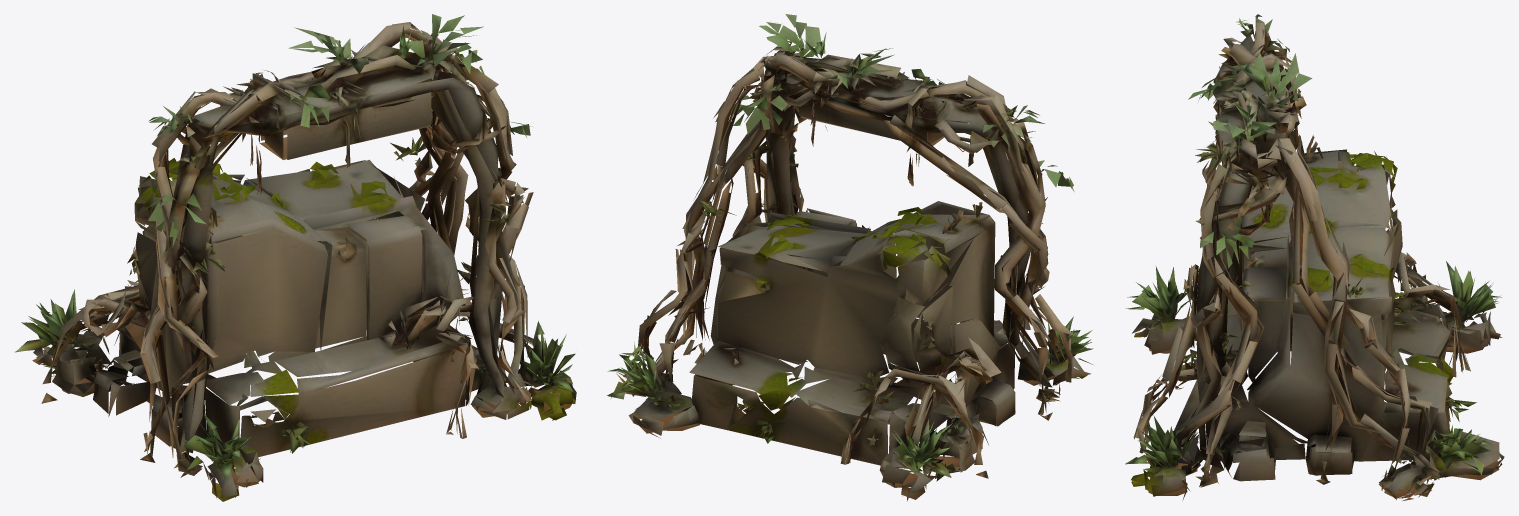
File: jun_root_arch_over_stone_LOD2.glb
3 renders of one model, left to right at view 1: azimuth 30°, elevation 25°; view 2: azimuth 150°, elevation 25°; view 3: azimuth 270°, elevation 25°, orthographic. The views are drawn at different scales.
Visible parts, largest first — view 1: tripo_node_2b6c4d80-21eb-4c0a-b062-b441cd52e211; view 2: tripo_node_2b6c4d80-21eb-4c0a-b062-b441cd52e211; view 3: tripo_node_2b6c4d80-21eb-4c0a-b062-b441cd52e211.
Part boxes in pixels (x1=…): tripo_node_2b6c4d80-21eb-4c0a-b062-b441cd52e211: x1=15, y1=14, x2=576, y2=501; tripo_node_2b6c4d80-21eb-4c0a-b062-b441cd52e211: x1=607, y1=14, x2=1093, y2=500; tripo_node_2b6c4d80-21eb-4c0a-b062-b441cd52e211: x1=1125, y1=14, x2=1504, y2=500.
Size of the model in its own units: 1 by 0.8501 by 0.8269.
Materials: 1 (1 with a texture image).
